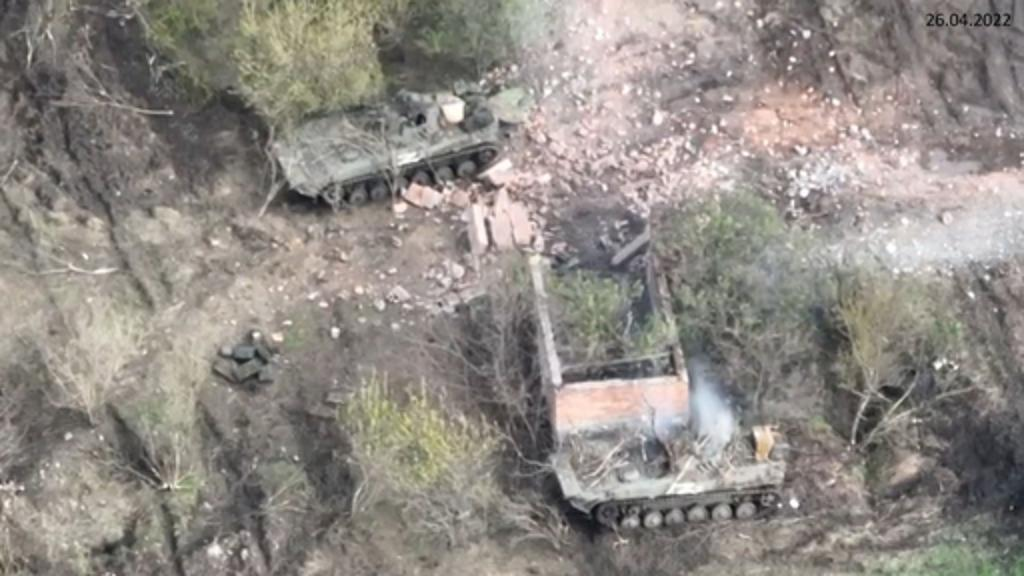APC-IFV: (260, 62, 504, 218), (544, 400, 792, 530)
